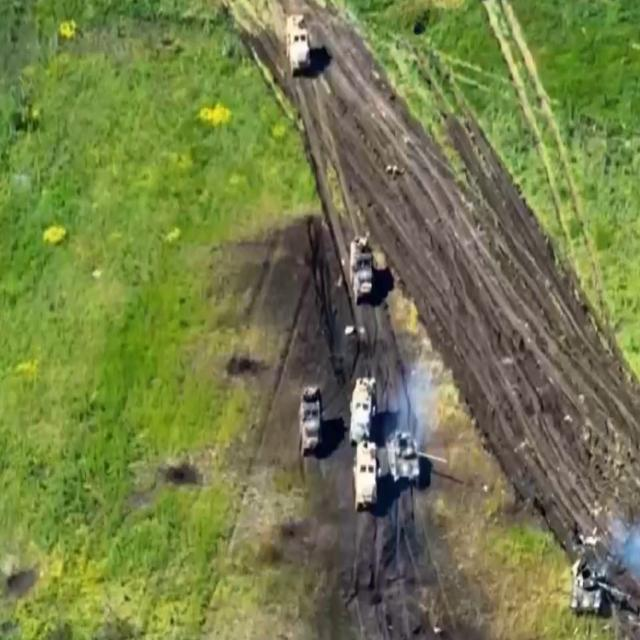MBT: (387, 429, 449, 487)
Vehicle: (348, 377, 380, 442), (299, 385, 326, 460), (349, 234, 375, 309), (356, 443, 381, 513), (287, 14, 314, 78)
